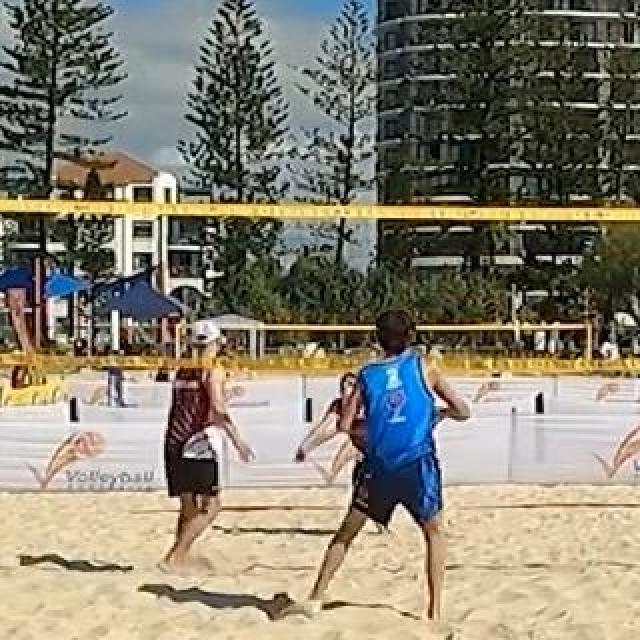volleyball: (296, 342, 326, 368)
